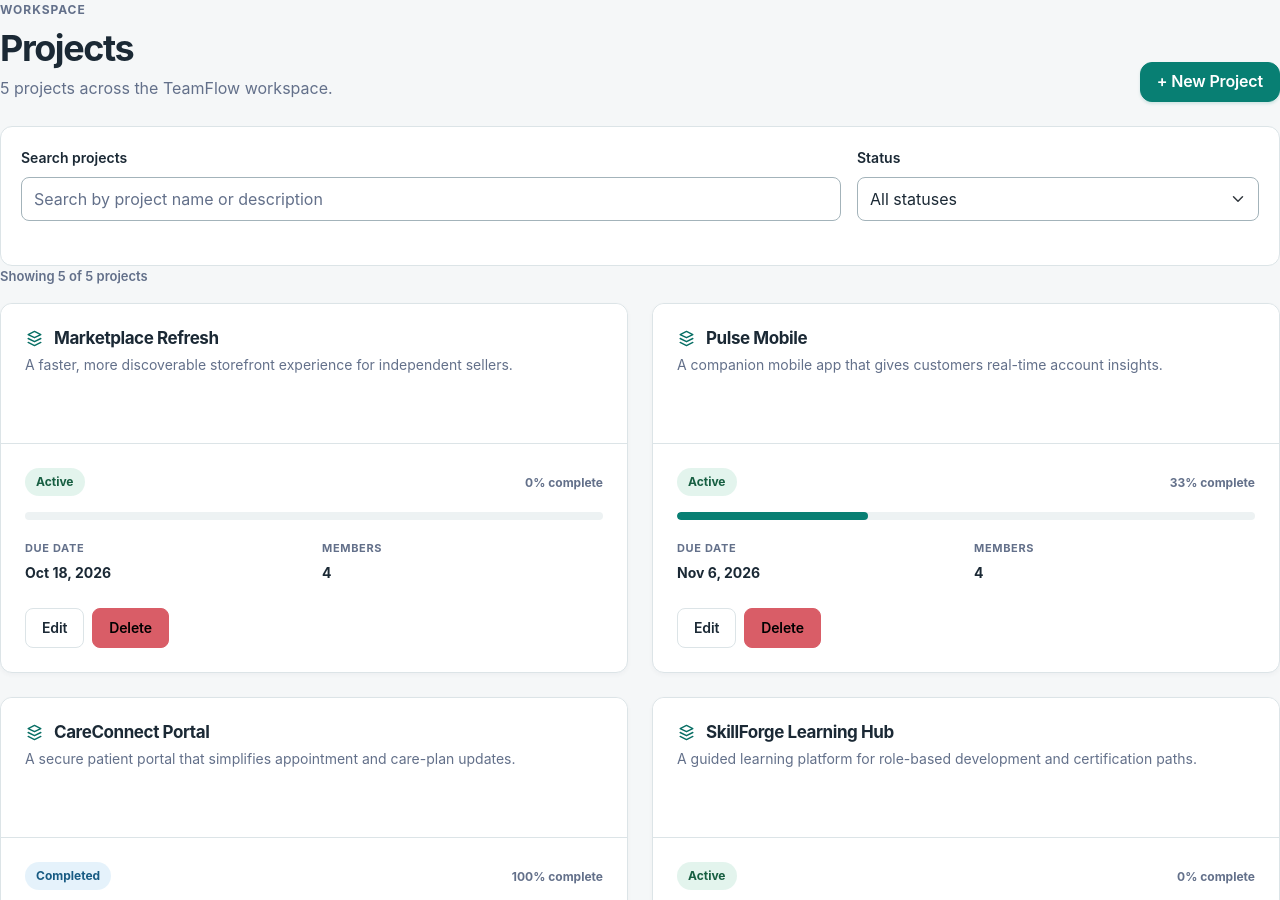
Test: project workflows › requires confirmation before deleting a project and removes it after confirmation
Click the button with aria-label "Delete Marketplace Refresh": (131,628) [92,608,169,648]
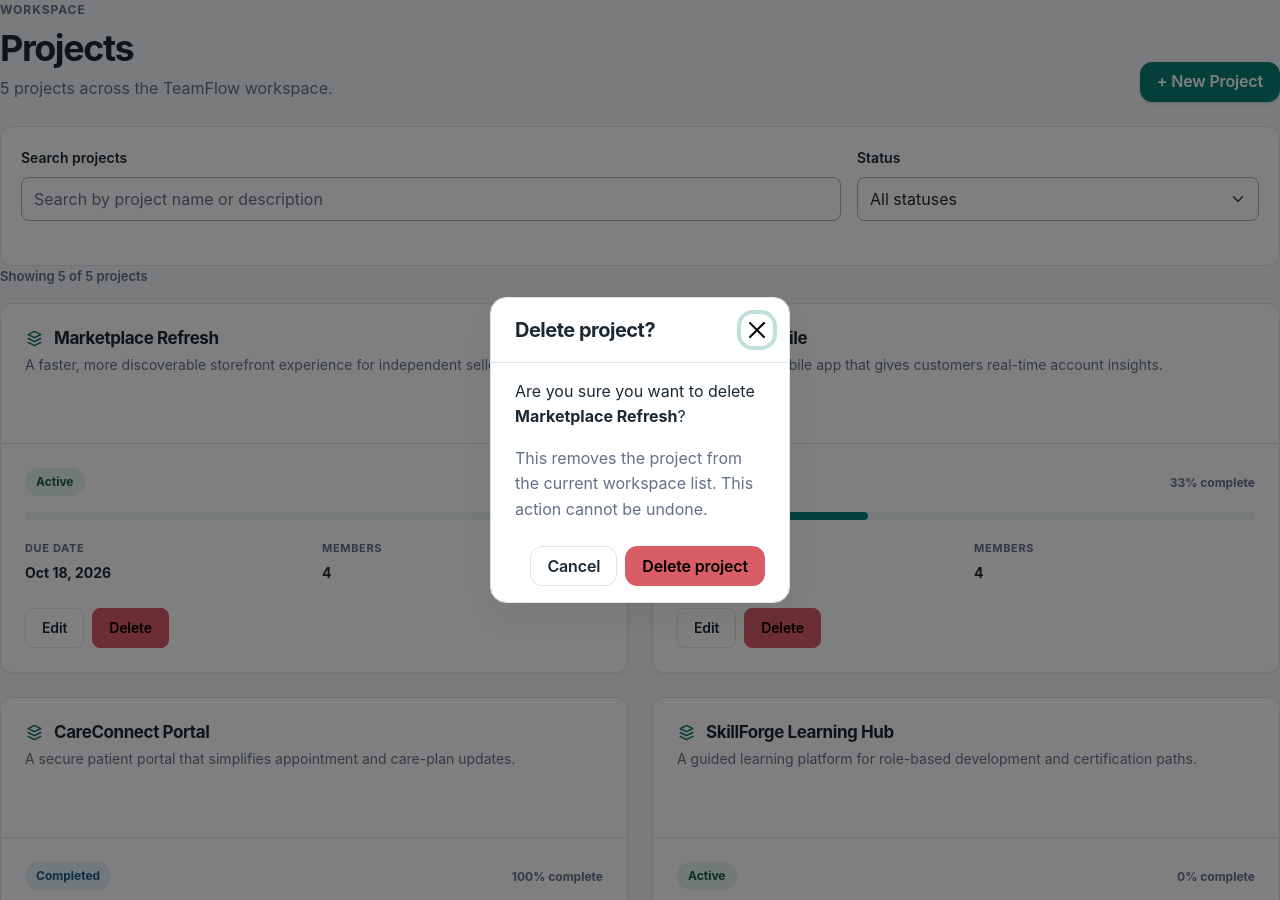
Expected: the link "Marketplace Refresh" is shown, [25,332,219,352]
Result: the dialog shows "Are you sure you want to delete Marketplace Refresh?" at [490,296,790,604]
Click the button "Delete project": (695,566) [625,546,765,586]
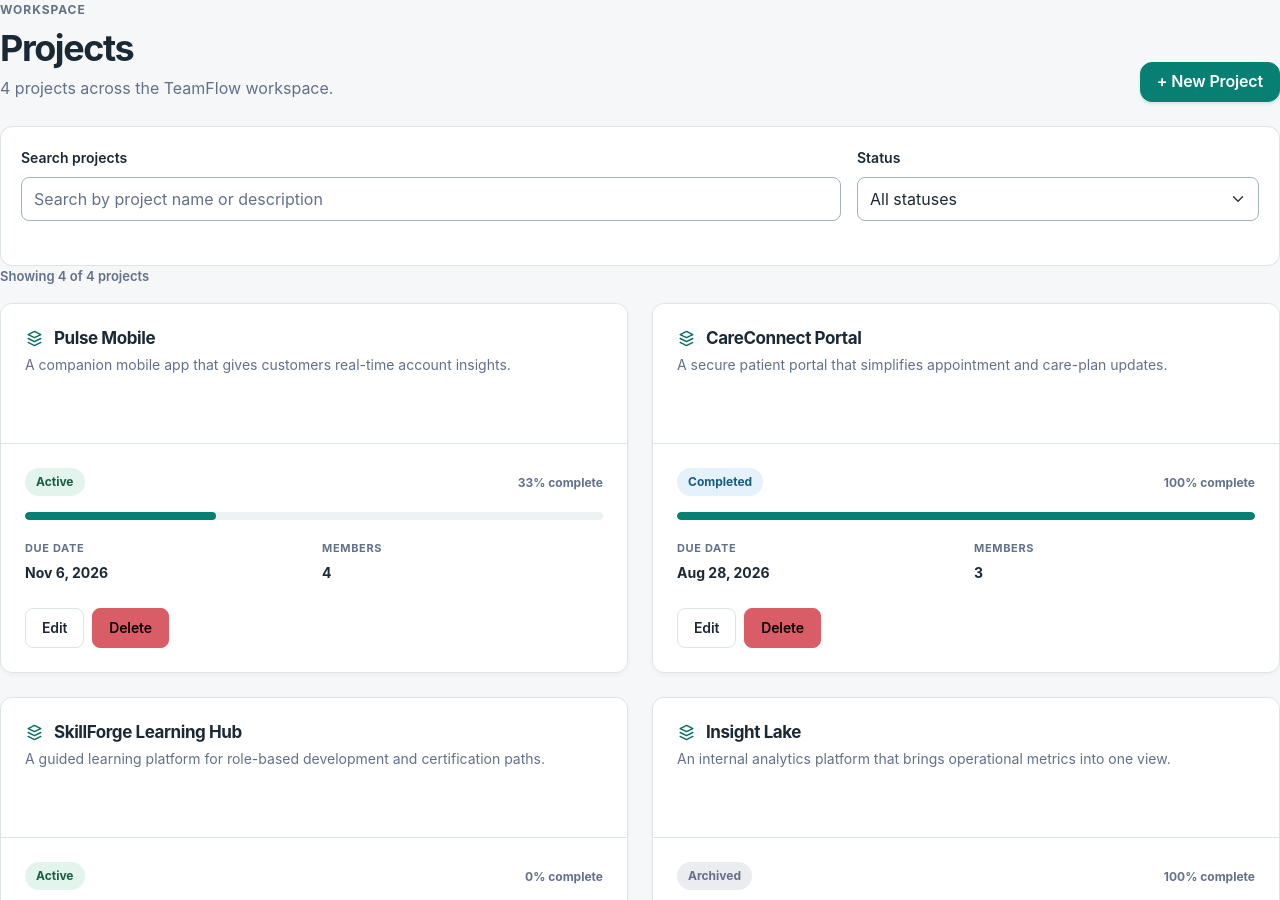
Result: the link "Marketplace Refresh" is gone
